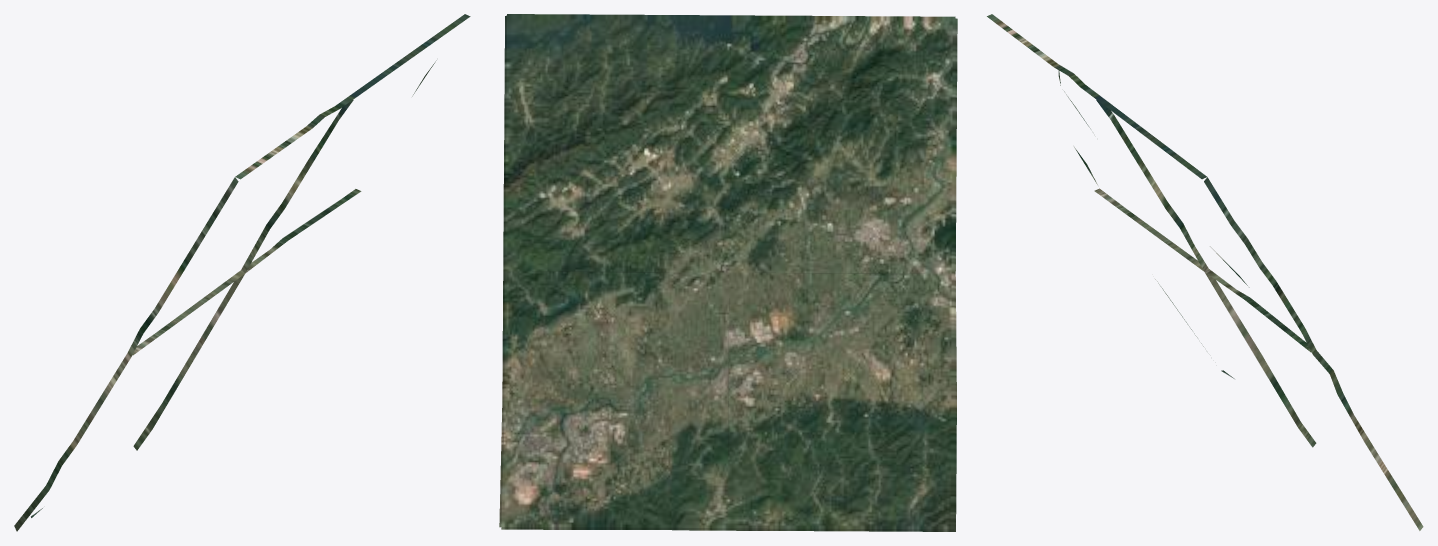
3 renders of one model, left to right at view 1: azimuth 30°, elevation 25°; view 2: azimuth 150°, elevation 25°; view 3: azimuth 270°, elevation 25°, orthographic.
Size of the model in its own units: 79737 by 69240 by 67729.
1 material, 1 textured.
